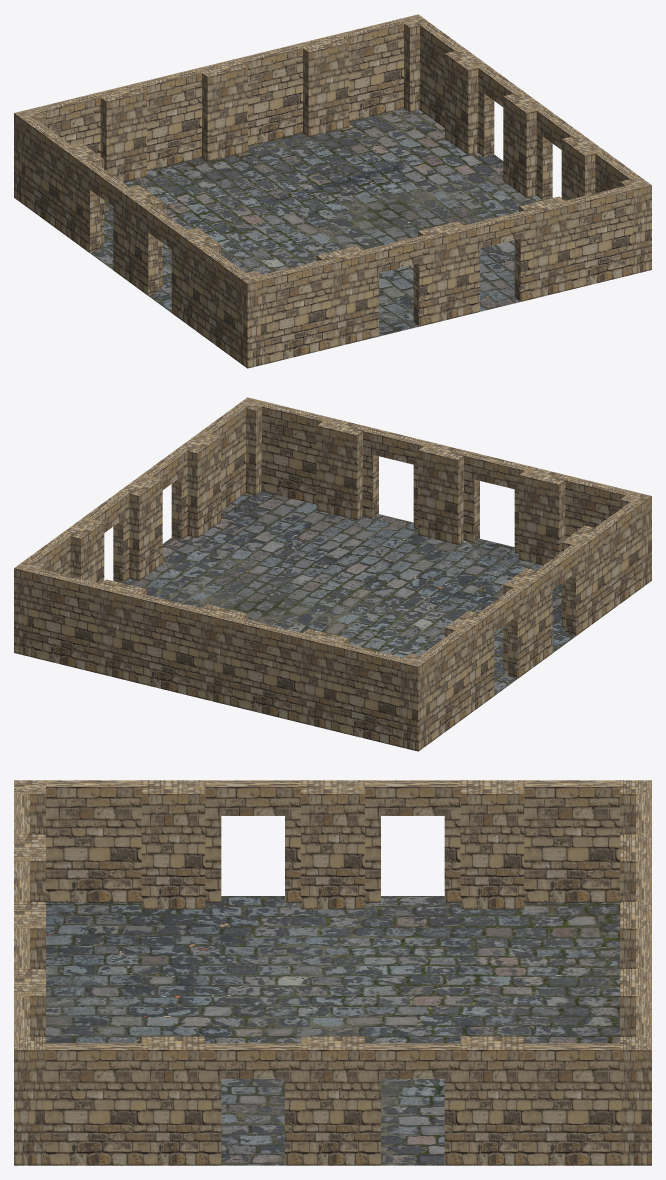
The model's file is threeWayConnector.fbx.
The picture shows the model from 3 angles, top to bottom: view 1: azimuth 30°, elevation 25°; view 2: azimuth 150°, elevation 25°; view 3: azimuth 270°, elevation 25°; orthographic projection. The views are drawn at different scales.
Visible parts, largest first — view 1: Plane, Cube_17_2, Cube_9_2, Cube_6, Cube_1, Cube_8_2, Cube_10_2, Cube_23, Cube_21, Cube_18_2, Cube_7_2, Cube_22 (+25 smaller); view 2: Plane, Cube_16_2, Cube_1, Cube_8_2, Cube_6, Cube_9_2, Cube_7_2, Cube_22, Cube_18_2, Cube_21, Cube_10_2, Cube_23 (+25 smaller); view 3: Plane, Cube_15_2, Cube_14_2, Cube_4_2, Cube_22_2, Cube_13_2, Cube_12_2, Cube_3_2, Cube_5_2, Cube_2_2, Cube_21_2, Cube_9 (+21 smaller).
Part boxes in pixels (box(x1,y1,x2,y2)): Plane: box(90, 108, 552, 336); Cube_17_2: box(262, 260, 328, 363); Cube_9_2: box(565, 186, 631, 289); Cube_6: box(237, 44, 302, 146); Cube_1: box(135, 68, 201, 170); Cube_8_2: box(338, 19, 403, 121); Cube_10_2: box(297, 34, 349, 136); Cube_23: box(196, 59, 247, 161); Cube_21: box(95, 83, 146, 182); Cube_18_2: box(316, 246, 368, 348); Cube_7_2: box(519, 196, 570, 299); Cube_22: box(418, 221, 469, 323); Plane: box(113, 491, 575, 695); Cube_16_2: box(337, 643, 403, 746); Cube_1: box(236, 618, 302, 721); Cube_8_2: box(34, 569, 100, 672); Cube_6: box(135, 593, 201, 697); Cube_9_2: box(262, 402, 327, 504); Cube_7_2: box(316, 417, 368, 519); Cube_22: box(418, 442, 469, 544); Cube_18_2: box(519, 466, 570, 565); Cube_21: box(297, 629, 349, 731); Cube_10_2: box(95, 579, 146, 682); Cube_23: box(196, 604, 247, 706); Plane: box(46, 896, 619, 1165); Cube_15_2: box(524, 1043, 619, 1165); Cube_14_2: box(524, 780, 619, 902); Cube_4_2: box(46, 1043, 141, 1165); Cube_22_2: box(46, 780, 141, 902); Cube_13_2: box(460, 1036, 524, 1165); Cube_12_2: box(460, 780, 524, 909); Cube_3_2: box(141, 1036, 205, 1165); Cube_5_2: box(141, 780, 205, 909); Cube_2_2: box(301, 1036, 364, 1165); Cube_21_2: box(301, 780, 364, 909); Cube_9: box(205, 780, 300, 902).
Size of the model in its own units: 40 by 8 by 40.
2 materials, 2 textured.
